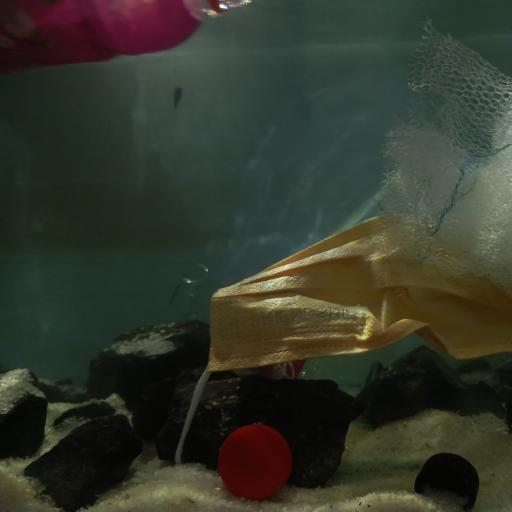bottle_cap: (219, 423, 293, 500), (414, 452, 480, 512)
mask: (188, 211, 512, 406)
net: (374, 18, 512, 300)
plastic_bottle: (163, 257, 386, 392), (1, 0, 255, 70)
